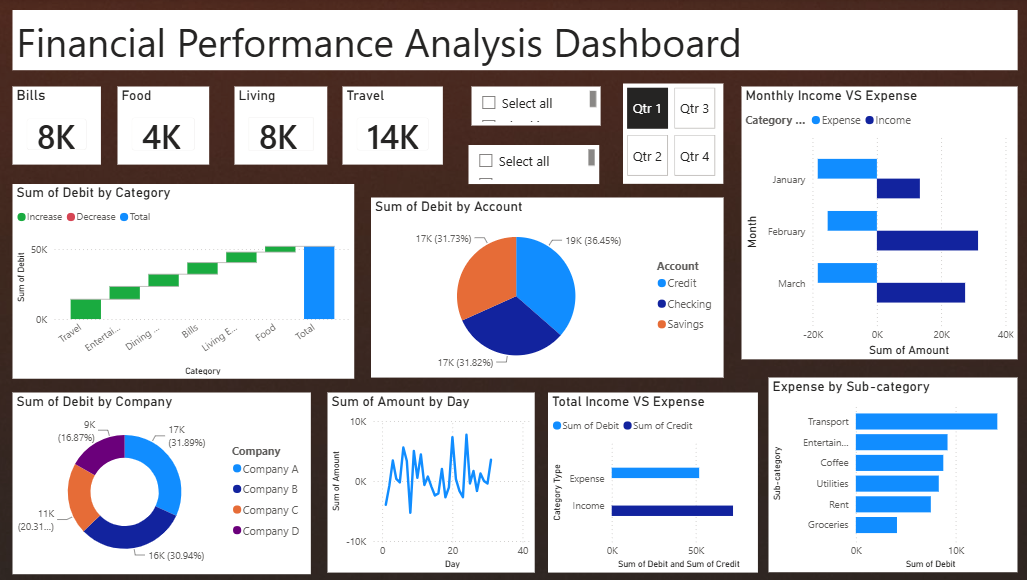

This screenshot's page, from the dashboard's own definition file:
{"tool":"powerbi","page":{"name":"Page 1","canvas":[1280,720],"ordinal":0},"visuals":[{"type":"textbox","box":[24,14.7,1235.2,73.7],"z":0},{"type":"cardVisual","title":"Food","fields":{"Data":["Sum(Finance_Expenses.Debit)"]},"box":[153,108.8,112.5,95.9],"z":2},{"type":"waterfallChart","fields":{"Category":["Finance_Expenses.Category"],"Y":["Sum(Finance_Expenses.Debit)"]},"box":[24,228.6,420.3,239.7],"z":3},{"type":"donutChart","fields":{"Category":["Finance_Expenses.Company"],"Y":["Sum(Finance_Expenses.Debit)"]},"box":[24,484.8,366.9,223.1],"z":4},{"type":"pieChart","fields":{"Y":["Sum(Finance_Expenses.Debit)"],"Category":["Finance_Expenses.Account"]},"box":[464.6,245.2,433.2,221.2],"z":5},{"type":"clusteredBarChart","title":"Expense by Sub-category","fields":{"Category":["Finance_Expenses.Sub-category"],"Y":["Sum(Finance_Expenses.Debit)"]},"box":[953.1,466.4,306,239.7],"z":7},{"type":"clusteredBarChart","title":"Monthly Income VS  Expense","fields":{"Category":["Finance_Expenses.Date.Variation.Date Hierarchy.Month","Finance_Expenses.Date.Variation.Date Hierarchy.Day"],"Series":["Finance_Expenses.Category Type"],"Y":["Sum(Finance_Expenses.Amount)"]},"box":[919.9,108.8,339.2,335.5],"z":8},{"type":"slicer","fields":{"Values":["Finance_Expenses.Account"]},"box":[588.1,108.8,158.5,47.9],"z":9},{"type":"slicer","fields":{"Values":["Finance_Expenses.Company"]},"box":[584.4,180.7,160.4,47.9],"z":10},{"type":"advancedSlicerVisual","fields":{"Values":["Finance_Expenses.Date.Variation.Date Hierarchy.Quarter"]},"box":[774.3,105.1,123.5,123.5],"z":11},{"type":"cardVisual","title":"Living","fields":{"Data":["Sum(Finance_Expenses.Debit)"]},"box":[296.8,108.8,114.3,95.9],"z":12},{"type":"cardVisual","title":"Travel","fields":{"Data":["Sum(Finance_Expenses.Debit)"]},"box":[429.5,108.8,123.5,95.9],"z":13},{"type":"cardVisual","title":"Bills","fields":{"Data":["Sum(Finance_Expenses.Debit)"]},"box":[24,108.8,108.8,95.9],"z":14},{"type":"lineChart","fields":{"Y":["Sum(Finance_Expenses.Amount)"],"Category":["Finance_Expenses.Date.Variation.Date Hierarchy.Day"]},"box":[411.1,484.8,254.4,221.2],"z":16},{"type":"clusteredBarChart","title":"Total Income VS Expense","fields":{"Category":["Finance_Expenses.Category Type"],"Y":["Sum(Finance_Expenses.Debit)","Sum(Finance_Expenses.Credit)"]},"box":[682.1,484.8,258.1,221.2],"z":17}]}

Visuals, with their boxes in screenshot pixels (x1, y1, x2, y2), scaled from the page's 1280x720 canvas onto the 1027x580 screenshot:
textbox: BBox(19, 12, 1010, 71)
"Food" cardVisual: BBox(123, 88, 213, 165)
waterfallChart - Finance_Expenses.Category x Sum(Finance_Expenses.Debit): BBox(19, 184, 356, 377)
donutChart - Finance_Expenses.Company x Sum(Finance_Expenses.Debit): BBox(19, 391, 314, 570)
pieChart - Sum(Finance_Expenses.Debit) x Finance_Expenses.Account: BBox(373, 198, 720, 376)
"Expense by Sub-category" clusteredBarChart: BBox(765, 376, 1010, 569)
"Monthly Income VS  Expense" clusteredBarChart: BBox(738, 88, 1010, 358)
slicer - Finance_Expenses.Account: BBox(472, 88, 599, 126)
slicer - Finance_Expenses.Company: BBox(469, 146, 598, 184)
advancedSlicerVisual - Finance_Expenses.Date.Variation.Date Hierarchy.Quarter: BBox(621, 85, 720, 184)
"Living" cardVisual: BBox(238, 88, 330, 165)
"Travel" cardVisual: BBox(345, 88, 444, 165)
"Bills" cardVisual: BBox(19, 88, 107, 165)
lineChart - Sum(Finance_Expenses.Amount) x Finance_Expenses.Date.Variation.Date Hierarchy.Day: BBox(330, 391, 534, 569)
"Total Income VS Expense" clusteredBarChart: BBox(547, 391, 754, 569)
